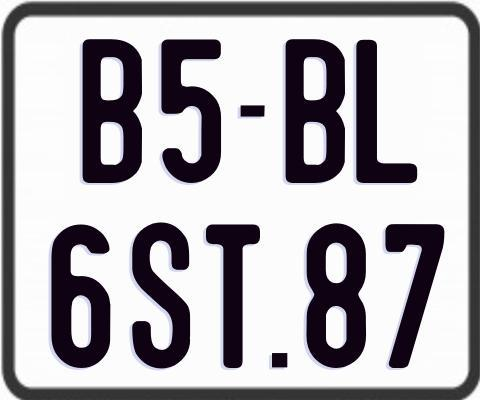5: (158, 37, 220, 183)
6: (49, 223, 112, 368)
7: (383, 222, 448, 372)
8: (304, 223, 366, 373)
B: (283, 37, 346, 183), (80, 39, 142, 185)
L: (353, 40, 419, 186)
S: (129, 221, 193, 370)
T: (205, 221, 262, 367)
